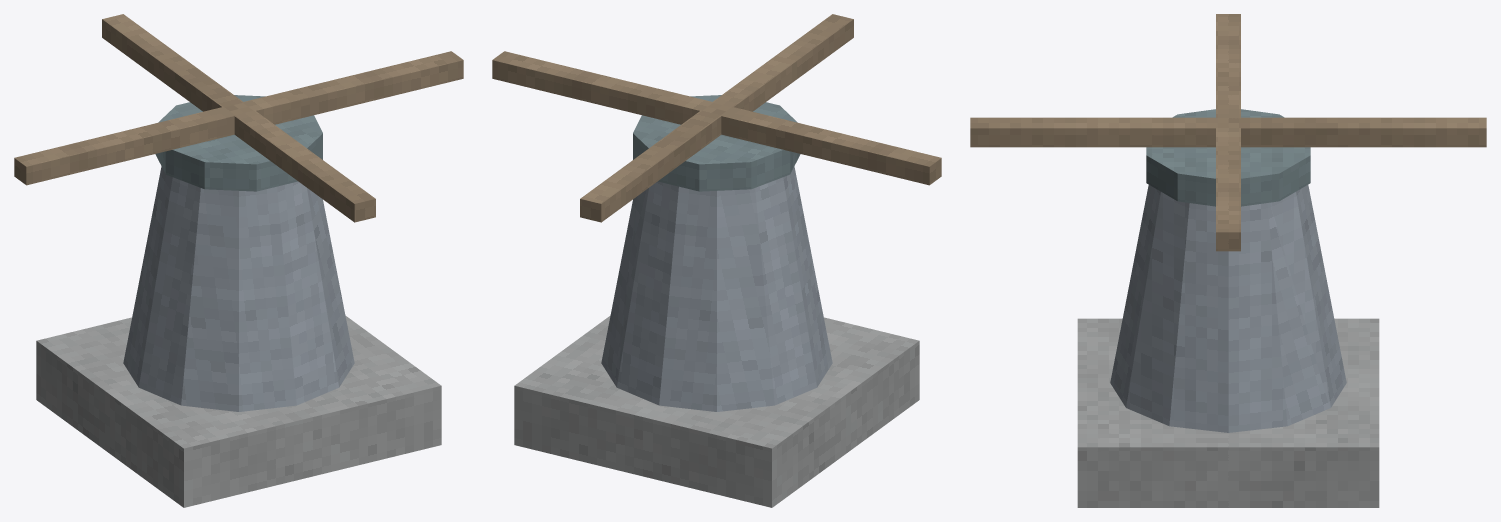
File: level_blockout_lighthouse_landing_capstan.glb
The picture shows the model from 3 angles, left to right: view 1: azimuth 30°, elevation 25°; view 2: azimuth 150°, elevation 25°; view 3: azimuth 270°, elevation 25°; orthographic projection. The views are drawn at different scales.
Parts seen in each view (by area): view 1: level_blockout_lighthouse_landing_capstan; view 2: level_blockout_lighthouse_landing_capstan; view 3: level_blockout_lighthouse_landing_capstan.
Boxes of the visible parts, x1,y1,x2,y2 form: level_blockout_lighthouse_landing_capstan: (14,14,463,507); level_blockout_lighthouse_landing_capstan: (492,14,941,507); level_blockout_lighthouse_landing_capstan: (970,14,1486,507).
Size of the model in its own units: 1.85 by 1.27 by 1.85.
4 materials, 4 textured.
